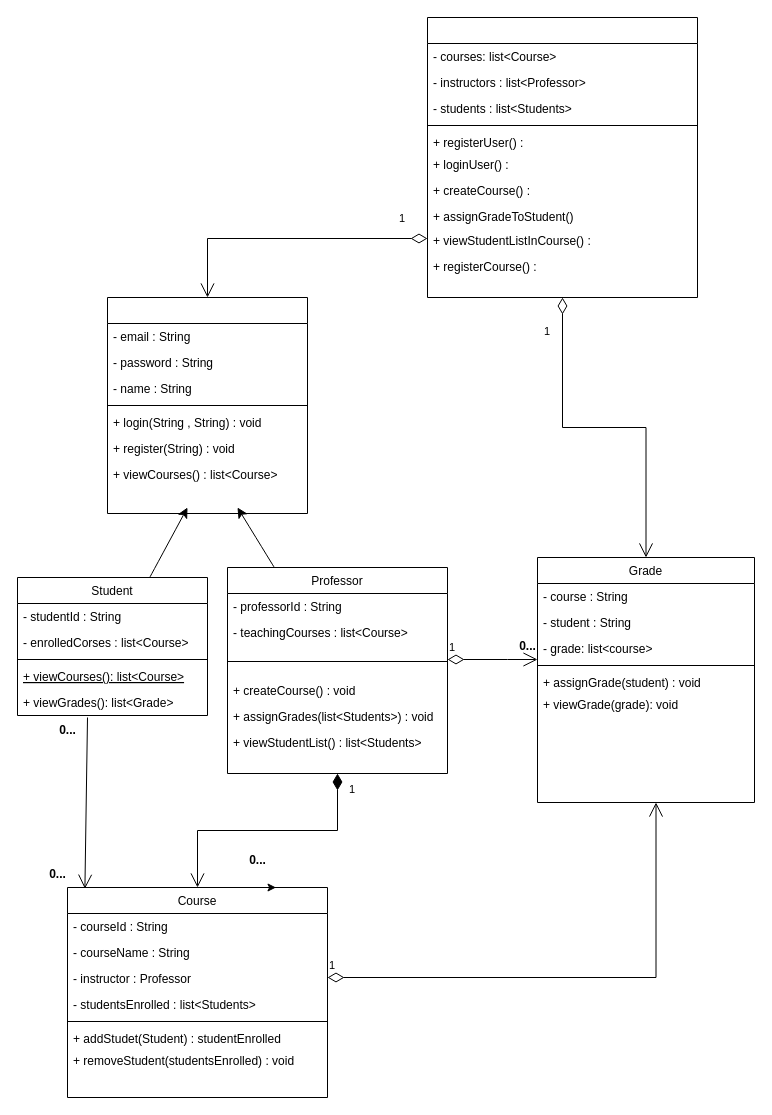
Some shapes in this 772 by 1115 pixel diagram are drawn without their labels. The shapes that lost their labels are listed below. From the top down, each one's box as (x1, y1, x2, y2) in pixels, then its label:
(426, 16, 698, 298): StudentManagement
(106, 296, 308, 514): User
